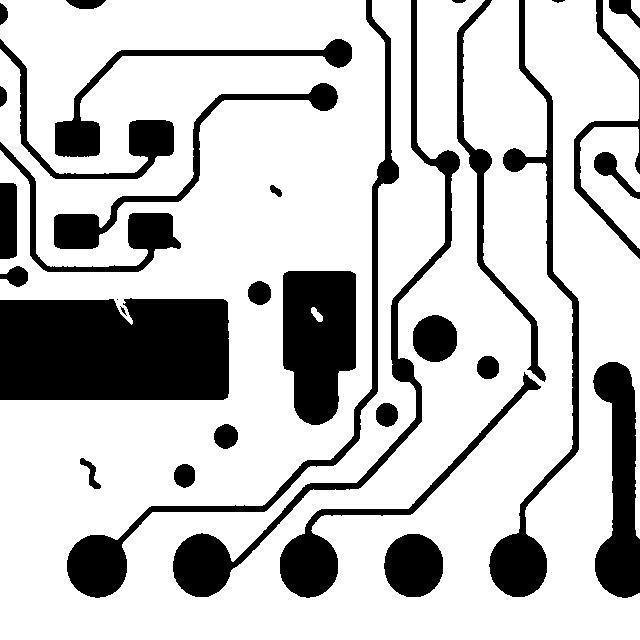copper: (70, 448, 110, 498), (260, 175, 291, 206)
mousebite: (104, 283, 142, 334)
open: (515, 360, 555, 396)
pin-hole: (301, 297, 332, 331)
spur: (157, 225, 190, 258)
